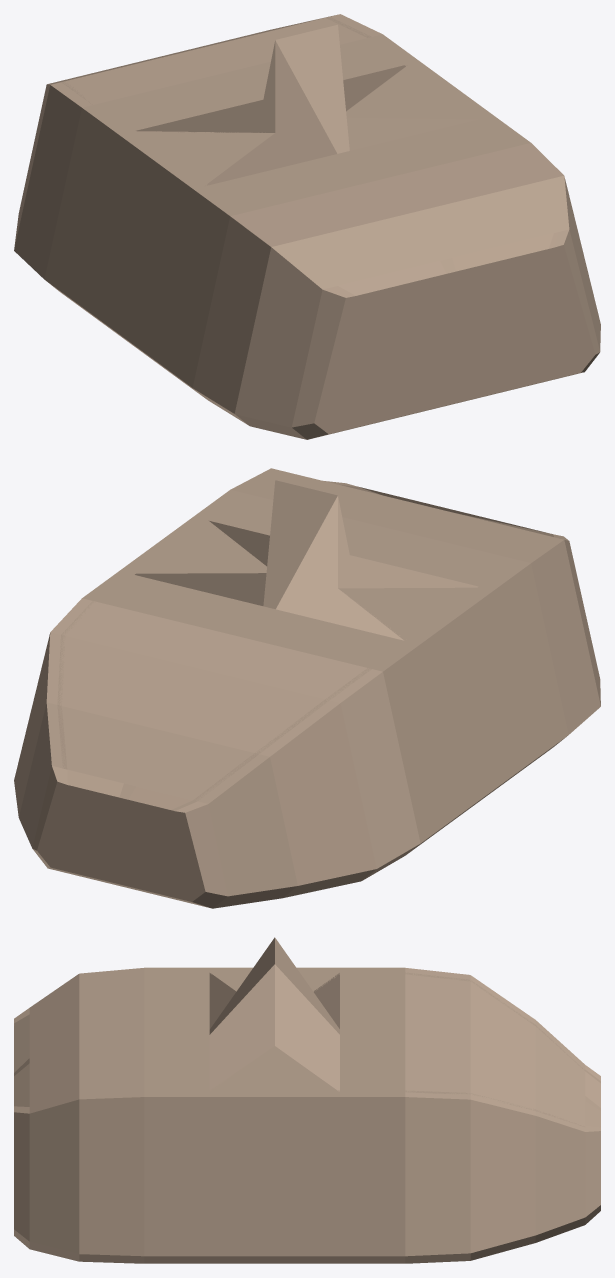
The model's file is orrin_scout_b.glb.
The picture shows the model from 3 angles, top to bottom: view 1: azimuth 30°, elevation 25°; view 2: azimuth 150°, elevation 25°; view 3: azimuth 270°, elevation 25°; orthographic projection. The views are drawn at different scales.
Visible parts, largest first — view 1: orrin_scout_b; view 2: orrin_scout_b; view 3: orrin_scout_b.
Boxes of the visible parts, left/top/right/bottom form: orrin_scout_b: left=14, top=14, right=600, bottom=439; orrin_scout_b: left=14, top=468, right=600, bottom=908; orrin_scout_b: left=14, top=937, right=600, bottom=1263.
Size of the model in its own units: 2.8 by 1.93 by 4.3.
